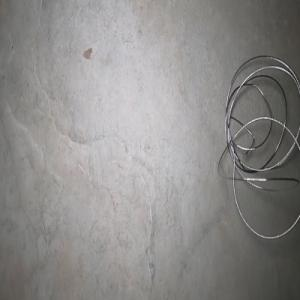Wire: (217, 55, 300, 239)
